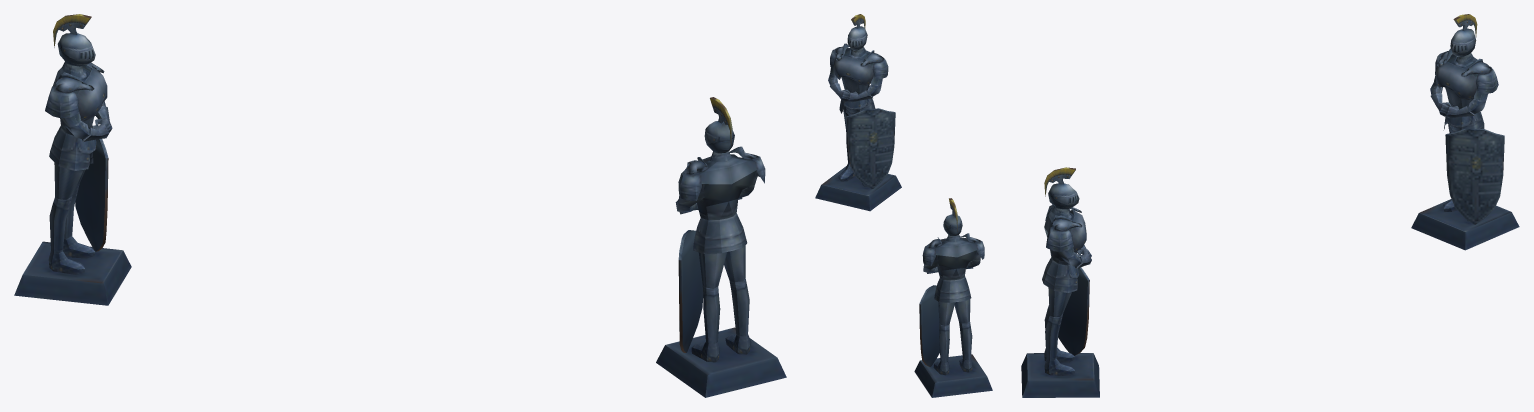
The model's file is wujian40.fbx.
The picture shows the model from 3 angles, left to right: view 1: azimuth 30°, elevation 25°; view 2: azimuth 150°, elevation 25°; view 3: azimuth 270°, elevation 25°; orthographic projection. The views are drawn at different scales.
Parts seen in each view (by area): view 1: wujian40; view 2: wujian40; view 3: wujian40.
Part boxes in pixels (x1,y1,x2,y2): wujian40: (14, 14, 786, 397); wujian40: (815, 14, 992, 397); wujian40: (1021, 14, 1519, 397).
Bounding box in the file's own units: 1124 × 579 × 1224.
1 material, 1 textured.
